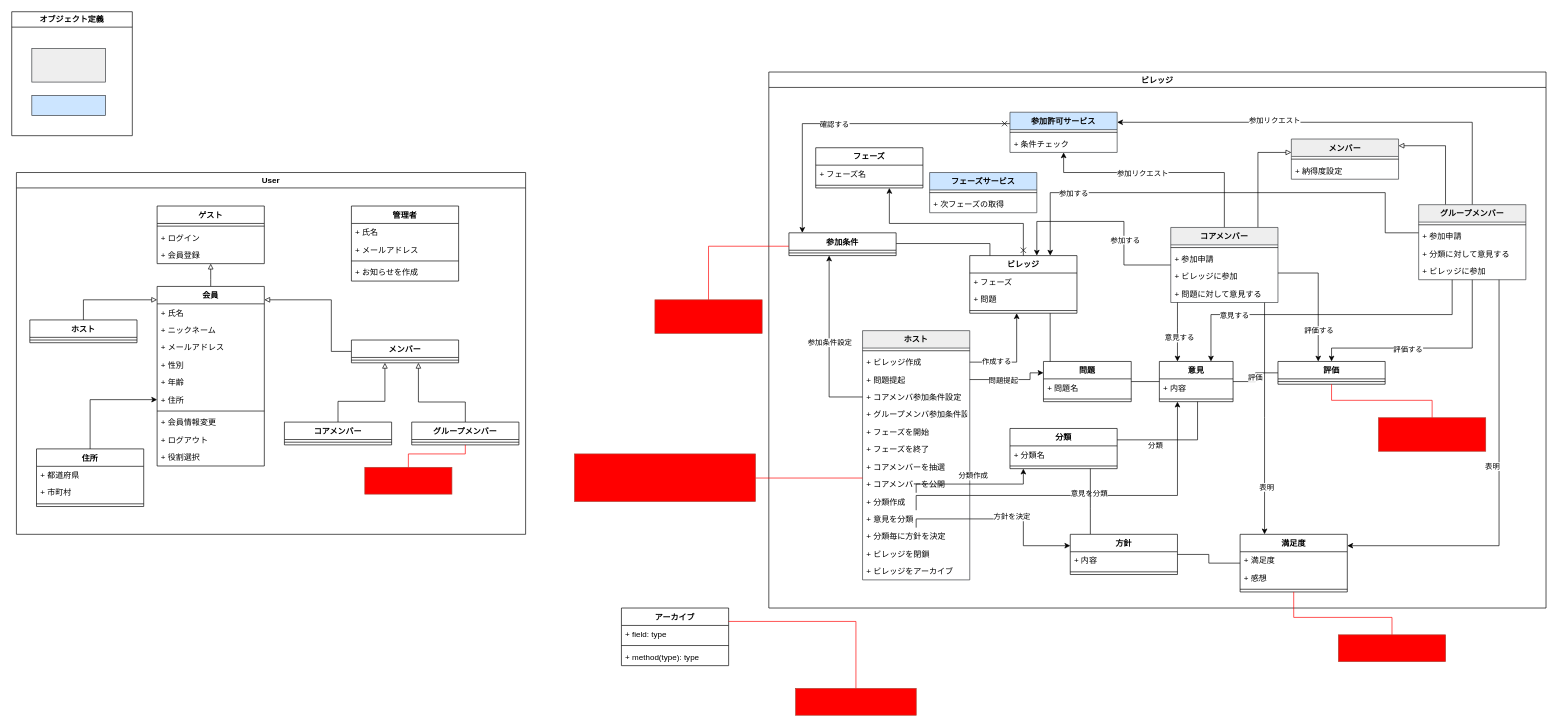
This 1558x727 diagram has some shape labels left out. Here are the shapes that lost their labels. From the top down, the centre of each, then its label:
the point at 68,65: 他コンテキストで 定義済み
the point at 68,105: サービスクラス
the point at 708,316: ・参加条件具体的に
the point at 1432,434: ・評価方法具体的に
the point at 408,480: 。グループメンバ？
the point at 664,477: ・コアメンバーの抽選は自動？ ・公開する=フェーズの終了=フェーズの開始? ・分類した意見の公開期日は後々で
the point at 1392,648: ・満足度は値？
the point at 855,701: ・アーカイブで持ちたい情報
